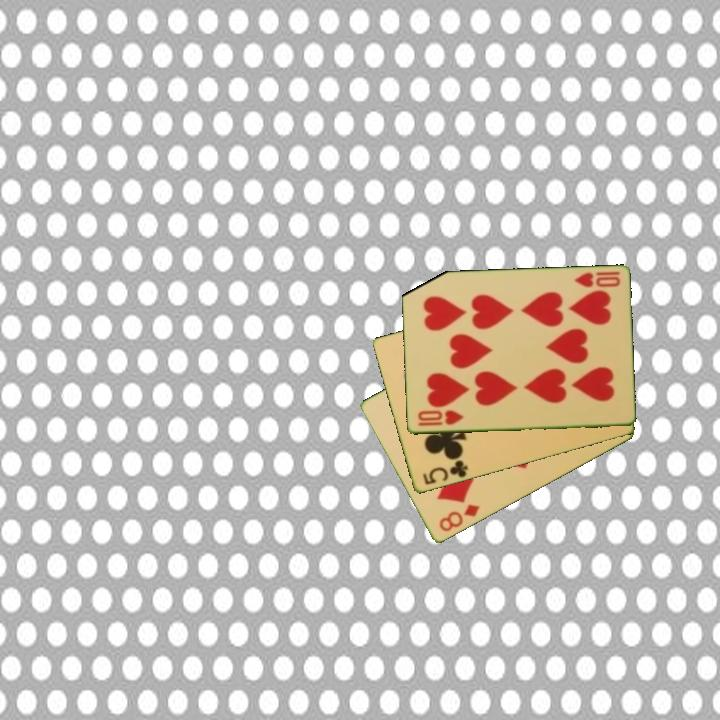10h: (570, 268, 623, 290), (414, 407, 466, 429)
5c: (419, 457, 471, 488)
8d: (435, 501, 482, 535)
